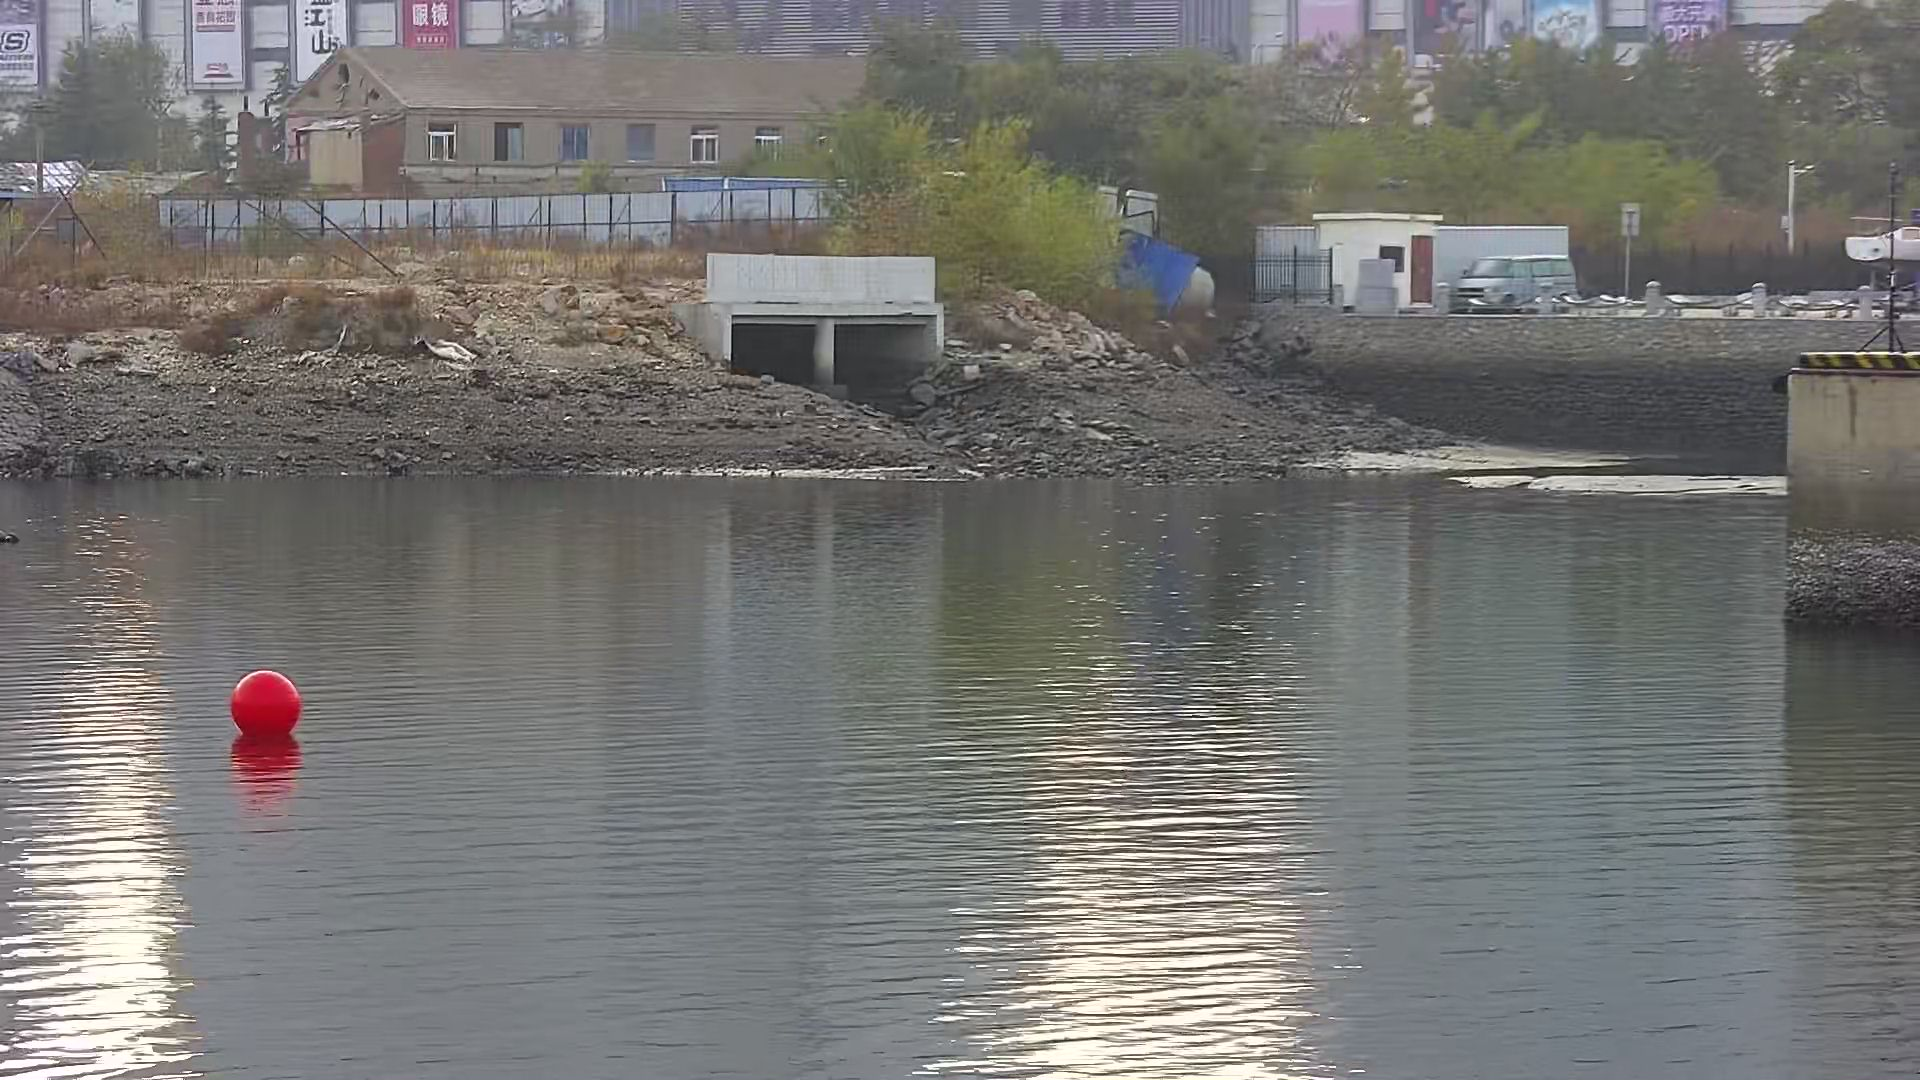ball: (228, 670, 299, 742)
